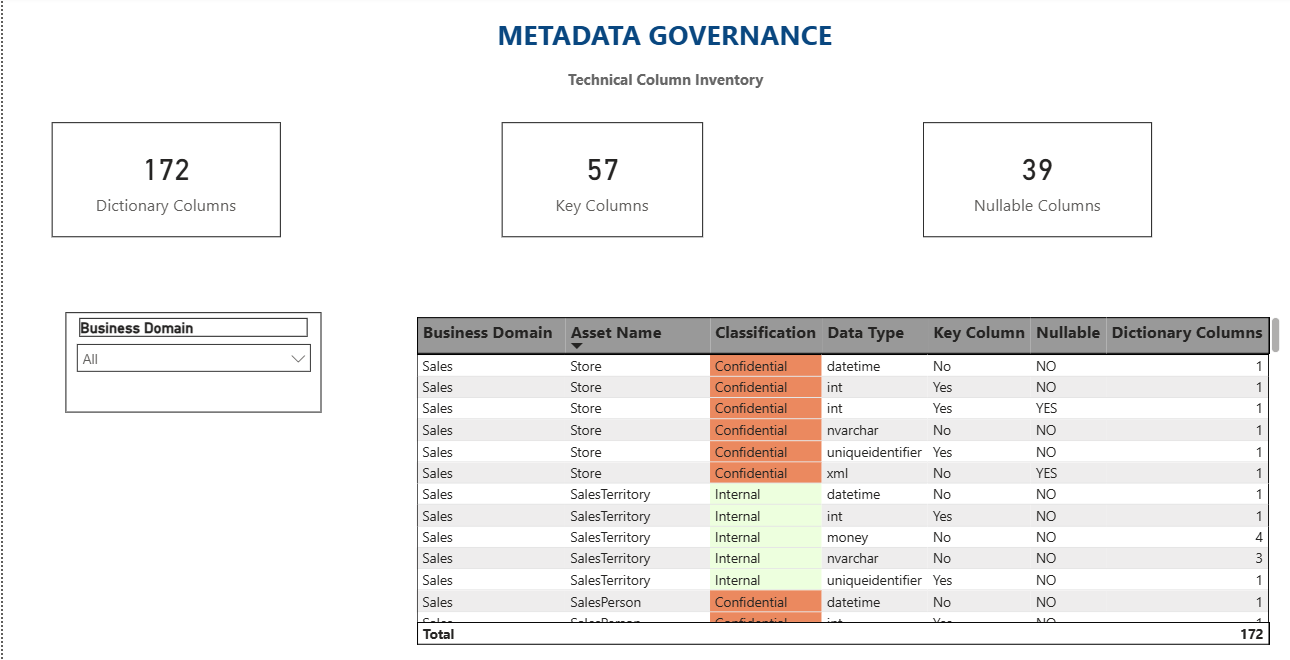

The page's visual inventory and layout, read from the dashboard file:
{"tool":"powerbi","page":{"name":"Technical column Inventory","canvas":[1280,720],"ordinal":3},"visuals":[{"type":"tableEx","fields":{"Values":["vw_DataDictionarySummary.BusinessDomain","vw_DataDictionarySummary.AssetName","vw_DataDictionarySummary.Classification","vw_DataDictionarySummary.DataType","vw_DataDictionarySummary.IsKeyColumn","vw_DataDictionarySummary.IsNullable","vw_DataDictionarySummary.Dictionary Columns"]},"box":[400,310.4,858.9,331.3],"z":0},{"type":"textbox","box":[150,34.6,300.1,63.5],"z":1000},{"type":"textbox","box":[150,14.4,999.8,51.9],"z":2000},{"type":"textbox","box":[75,66.4,1151.3,57.7],"z":3000},{"type":"card","fields":{"Values":["vw_DataDictionarySummary.Dictionary Columns"]},"box":[47.6,124.1,225.1,112.5],"z":4000},{"type":"card","fields":{"Values":["vw_DataDictionarySummary.Key Columns"]},"box":[489.1,124.1,197.7,112.5],"z":5000},{"type":"card","fields":{"Values":["vw_DataDictionarySummary.Nullable Columns"]},"box":[903.2,124.1,225.1,112.5],"z":6000},{"type":"slicer","fields":{"Values":["vw_DataDictionarySummary.BusinessDomain"]},"box":[61.4,310.4,251.5,98.2],"z":7000}]}

Visuals, with their boxes on the page's 1280x720 design canvas (x1, y1, x2, y2). These are canvas units, not pixel positions in the 1290x660 screenshot, which may show the page scaled, cropped or inside an application window:
tableEx - vw_DataDictionarySummary.BusinessDomain x vw_DataDictionarySummary.AssetName: pyautogui.locateOnScreen(400, 310, 1259, 642)
textbox: pyautogui.locateOnScreen(150, 35, 450, 98)
textbox: pyautogui.locateOnScreen(150, 14, 1150, 66)
textbox: pyautogui.locateOnScreen(75, 66, 1226, 124)
card - vw_DataDictionarySummary.Dictionary Columns: pyautogui.locateOnScreen(48, 124, 273, 237)
card - vw_DataDictionarySummary.Key Columns: pyautogui.locateOnScreen(489, 124, 687, 237)
card - vw_DataDictionarySummary.Nullable Columns: pyautogui.locateOnScreen(903, 124, 1128, 237)
slicer - vw_DataDictionarySummary.BusinessDomain: pyautogui.locateOnScreen(61, 310, 313, 409)
